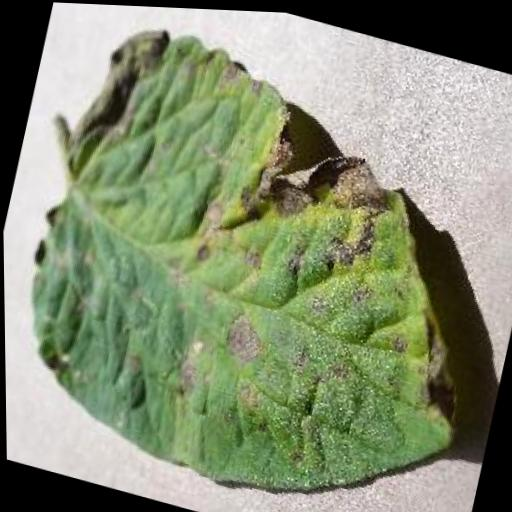Early Blight: (0, 4, 512, 512)
